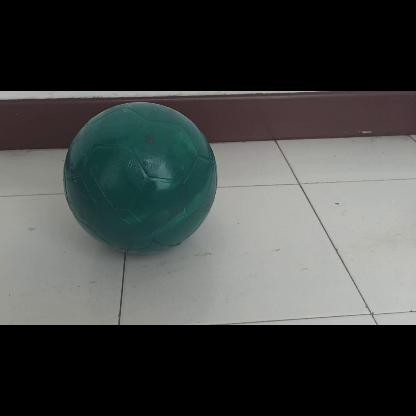green_ball: (62, 103, 216, 257)
